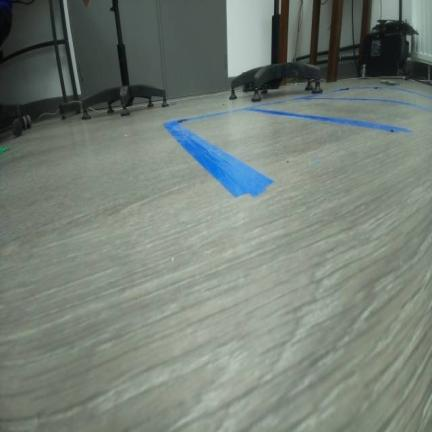place: (164, 107, 411, 197), (246, 95, 428, 135), (300, 86, 431, 112)
